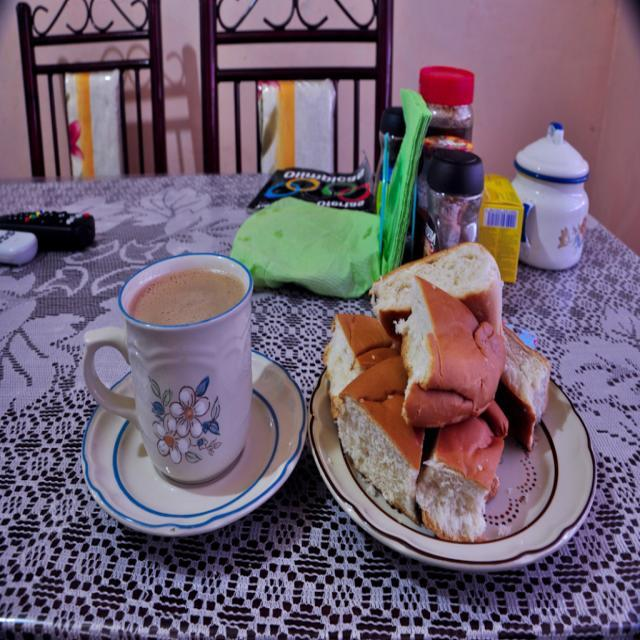ceramic plate: (306, 294, 600, 576), (66, 340, 313, 552)
